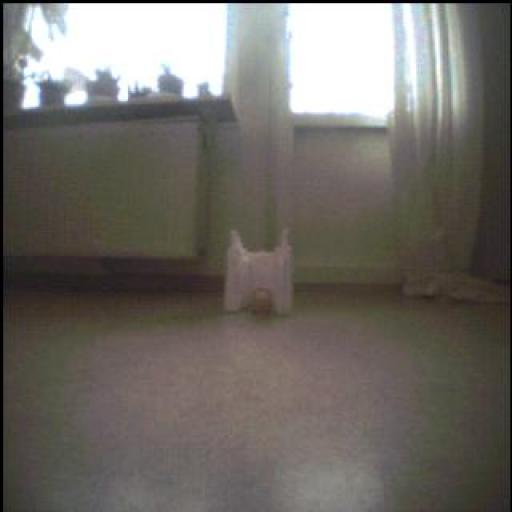Basket: (246, 288, 278, 322)
